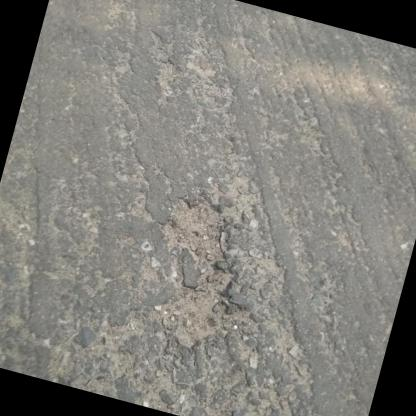pothole: (138, 192, 268, 358)
